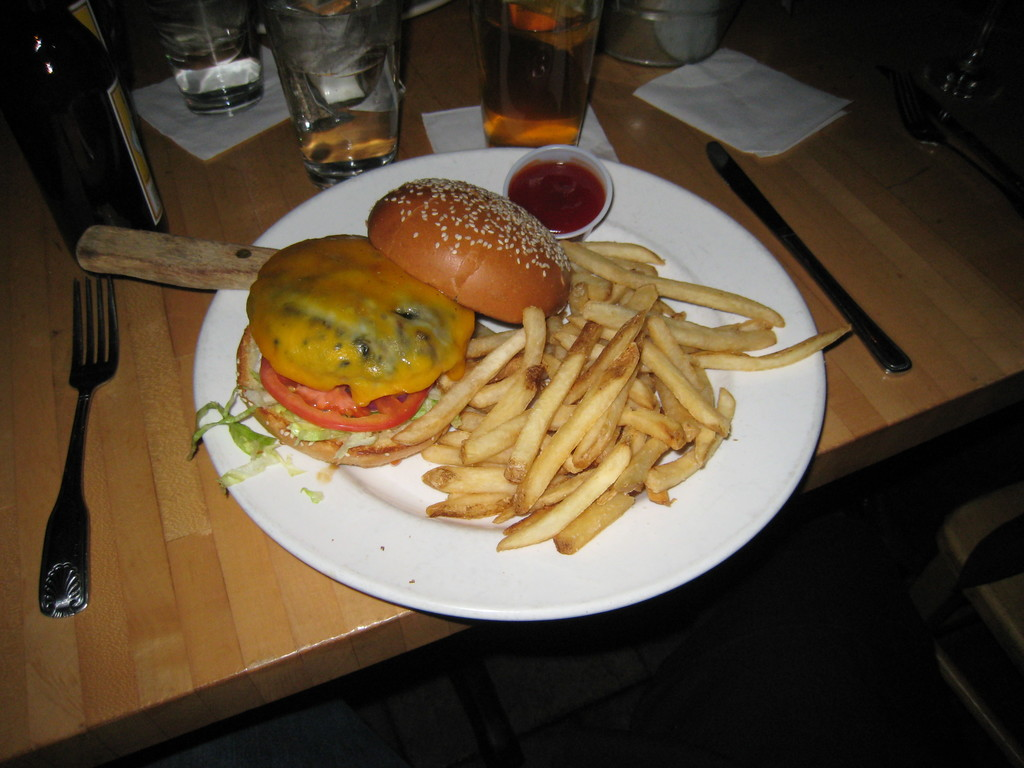French fries: (396, 247, 753, 551)
